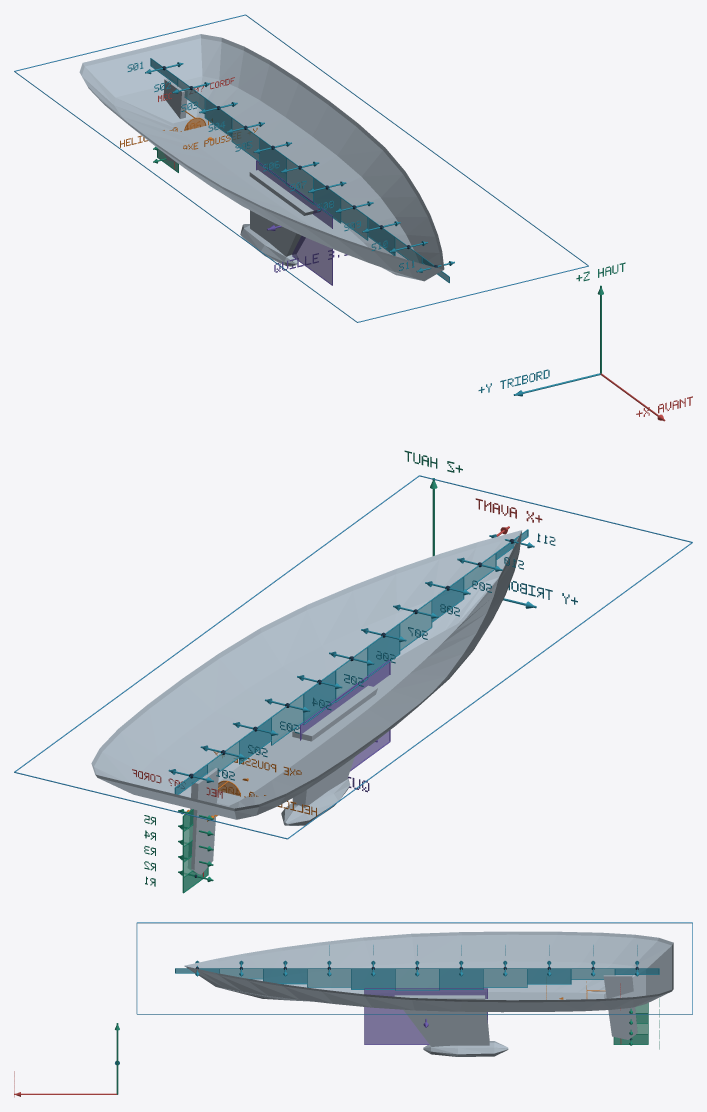
The model's file is parties-immergees.glb.
The picture shows the model from 3 angles, top to bottom: view 1: azimuth 30°, elevation 25°; view 2: azimuth 150°, elevation 25°; view 3: azimuth 270°, elevation 25°; orthographic projection. The views are drawn at different scales.
Visible parts, largest first — view 1: GLB visuel existant - contexte uniquement, Flottaison z=0, Quille - aire equivalente, Codes des organes, Repere bateau en metres, S06 - coque cross-flow, S05 - coque cross-flow, S07 - coque cross-flow, S04 - coque cross-flow, S08 - coque cross-flow; view 2: GLB visuel existant - contexte uniquement, Flottaison z=0, Codes des organes, Quille - aire equivalente, Repere bateau en metres, S06 - coque cross-flow, S05 - coque cross-flow, S07 - coque cross-flow, S04 - coque cross-flow, S08 - coque cross-flow, S03 - coque cross-flow, S09 - coque cross-flow; view 3: GLB visuel existant - contexte uniquement, Quille - aire equivalente, Flottaison z=0, S06 - coque cross-flow, S07 - coque cross-flow, S05 - coque cross-flow, S04 - coque cross-flow, S08 - coque cross-flow, S03 - coque cross-flow, S09 - coque cross-flow, S02 - coque cross-flow, Repere bateau en metres (+3 smaller).
Boxes of the visible parts, x1,y1,x2,y2 form: GLB visuel existant - contexte uniquement: (79, 34, 444, 281); Flottaison z=0: (14, 14, 588, 322); Quille - aire equivalente: (256, 160, 332, 285); Codes des organes: (120, 61, 414, 272); Repere bateau en metres: (478, 262, 692, 421); S06 - coque cross-flow: (286, 157, 313, 204); S05 - coque cross-flow: (259, 137, 286, 183); S07 - coque cross-flow: (313, 177, 341, 223); S04 - coque cross-flow: (231, 117, 259, 161); S08 - coque cross-flow: (340, 197, 368, 240); GLB visuel existant - contexte uniquement: (91, 530, 521, 874); Flottaison z=0: (14, 475, 692, 839); Codes des organes: (132, 533, 555, 886); Quille - aire equivalente: (300, 659, 390, 771); Repere bateau en metres: (404, 450, 577, 608); S06 - coque cross-flow: (335, 646, 368, 702); S05 - coque cross-flow: (303, 670, 336, 724); S07 - coque cross-flow: (367, 623, 400, 677); S04 - coque cross-flow: (271, 693, 304, 745); S08 - coque cross-flow: (399, 599, 432, 650); S03 - coque cross-flow: (239, 717, 271, 764); S09 - coque cross-flow: (432, 576, 464, 622); GLB visuel existant - contexte uniquement: (184, 931, 673, 1056); Quille - aire equivalente: (364, 988, 487, 1044); Flottaison z=0: (136, 922, 692, 1014); S06 - coque cross-flow: (395, 968, 439, 990); S07 - coque cross-flow: (351, 968, 395, 989); S05 - coque cross-flow: (439, 968, 483, 989); S04 - coque cross-flow: (483, 968, 527, 987); S08 - coque cross-flow: (307, 968, 351, 987); S03 - coque cross-flow: (527, 968, 571, 984); S09 - coque cross-flow: (263, 968, 307, 984); S02 - coque cross-flow: (570, 968, 615, 979); Repere bateau en metres: (14, 1023, 119, 1097).
Bounding box in the file's own units: 4.94 × 2.16 × 13.81.
